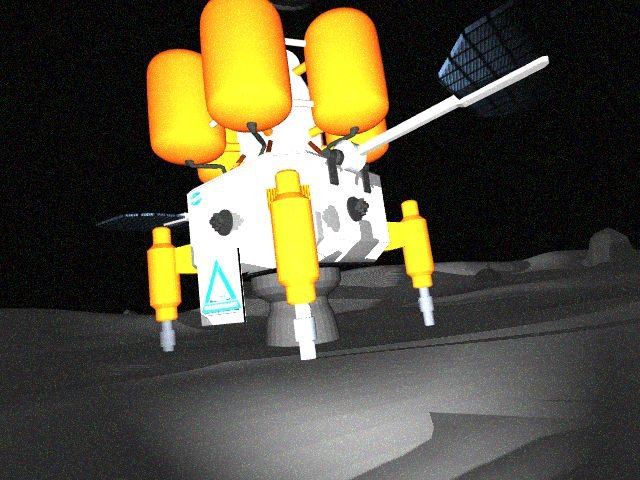basemarker: (199, 257, 243, 315)
